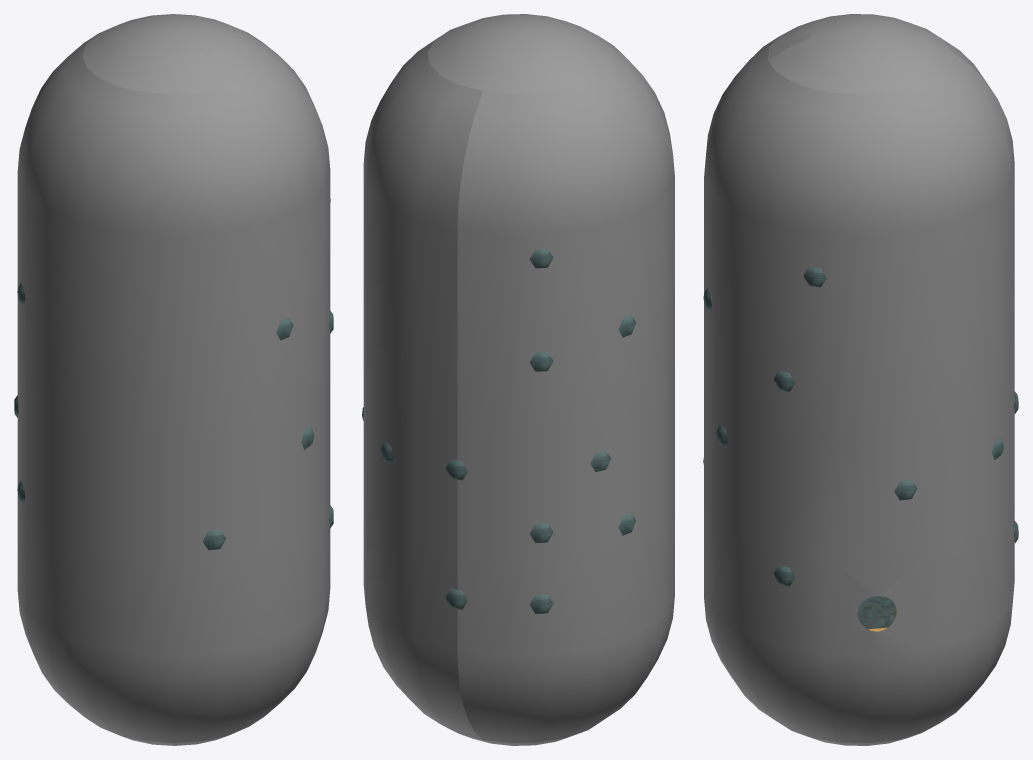
Rendered from reversegravitytowerplanetlow.dae.
3 views of the same model, side by side, from view 1: azimuth 30°, elevation 25°; view 2: azimuth 150°, elevation 25°; view 3: azimuth 270°, elevation 25° (orthographic).
Parts seen in each view (by area): view 1: n2b0, n4b2; view 2: n2b0, n4b2; view 3: n2b0, n4b2, n5b1.
Part boxes in pixels (<box>): n2b0: <box>17,14,330,745</box>; n4b2: <box>14,199,333,550</box>; n2b0: <box>363,14,674,745</box>; n4b2: <box>362,248,635,613</box>; n2b0: <box>704,14,1014,745</box>; n4b2: <box>703,266,1018,586</box>; n5b1: <box>857,596,895,629</box>.
Bounding box in the file's own units: 2618 × 6542 × 2660.
